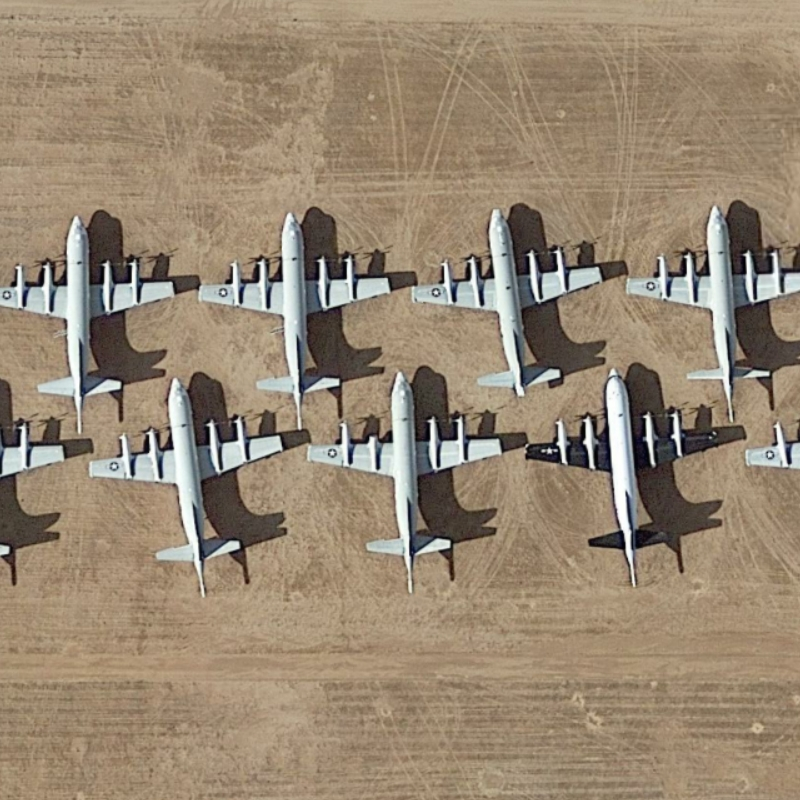A9: (191, 201, 403, 434), (82, 378, 294, 602), (304, 365, 506, 600), (518, 366, 723, 587), (409, 200, 607, 401), (620, 201, 800, 422), (4, 210, 177, 437)
